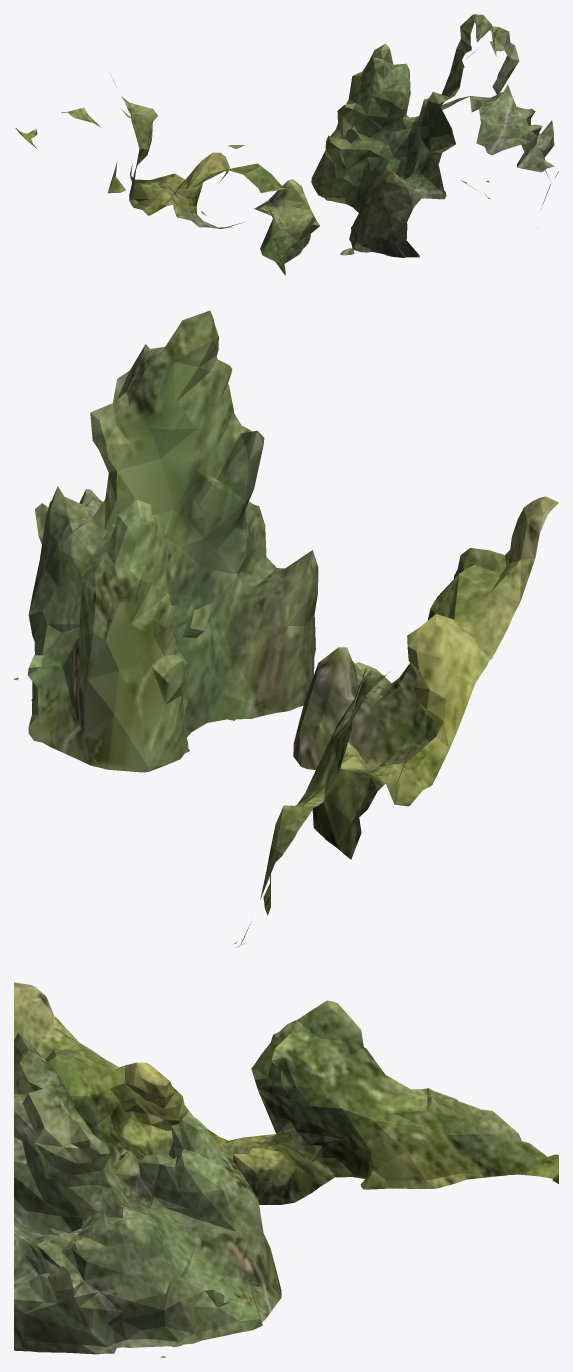
3 views of the same model, one above another, from view 1: azimuth 30°, elevation 25°; view 2: azimuth 150°, elevation 25°; view 3: azimuth 270°, elevation 25° (orthographic). The views are drawn at different scales.
Bounding box in the file's own units: 10.37 × 6.69 × 11.8.
Materials: 2 (2 with a texture image).
